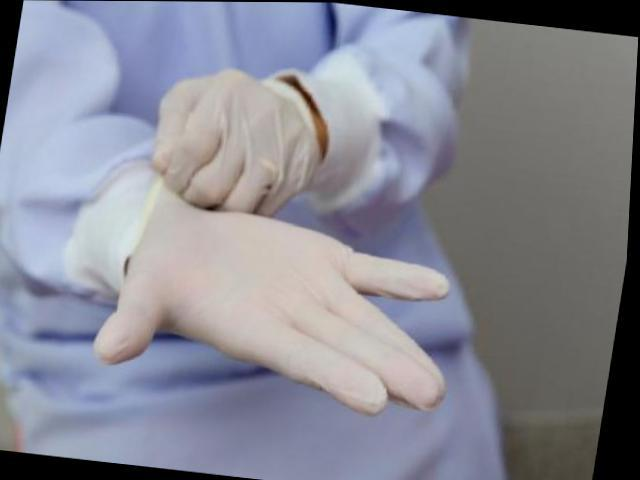Hand-in-Glove: (93, 177, 484, 425), (138, 59, 340, 225)
